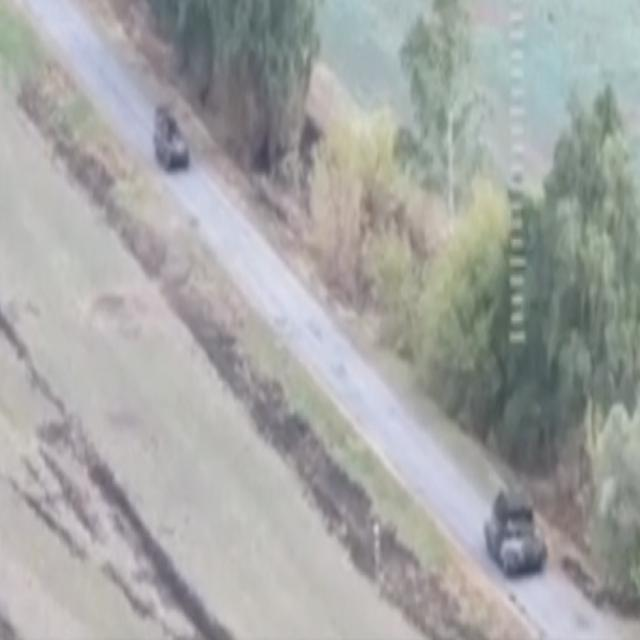vehicle: (483, 483, 548, 578), (152, 103, 192, 172)
